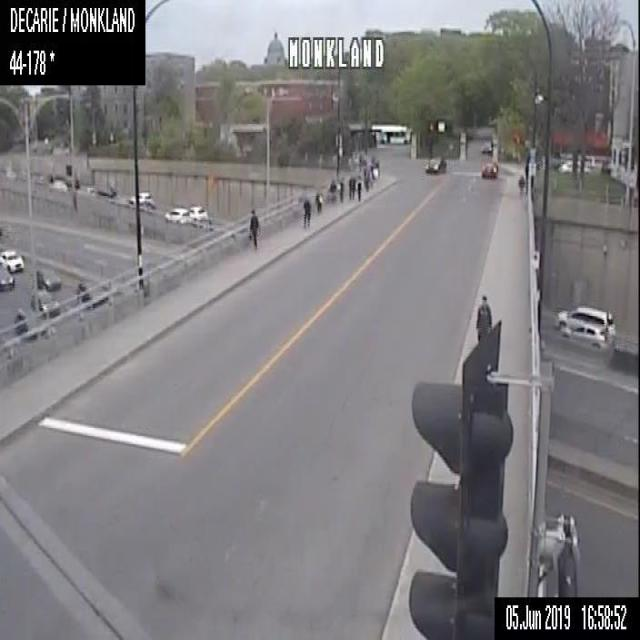bus: (369, 122, 411, 142)
pedestrian: (474, 295, 491, 340), (246, 208, 258, 252), (301, 197, 311, 227), (328, 177, 336, 204), (363, 163, 370, 191), (348, 173, 354, 200), (314, 190, 321, 213), (517, 175, 524, 197), (356, 178, 362, 200), (338, 180, 343, 202)
vehicle: (554, 304, 616, 335), (559, 321, 614, 349), (70, 279, 111, 309), (30, 287, 61, 315), (36, 264, 62, 288), (0, 247, 24, 272), (88, 182, 116, 202), (165, 206, 190, 224), (479, 158, 499, 179), (0, 264, 16, 290), (186, 203, 208, 221), (424, 155, 446, 172), (128, 191, 154, 204)
